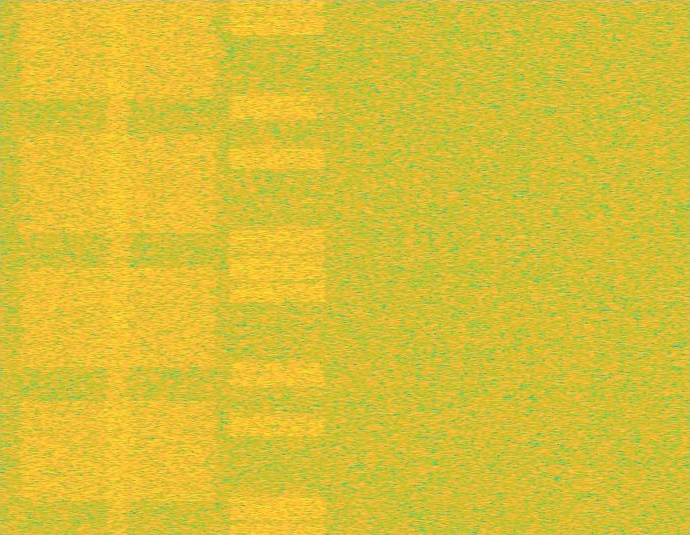5G: (15, 0, 222, 534)
DSSS: (104, 0, 132, 534)
LTE: (226, 0, 329, 534)
Radar: (240, 0, 254, 534)
